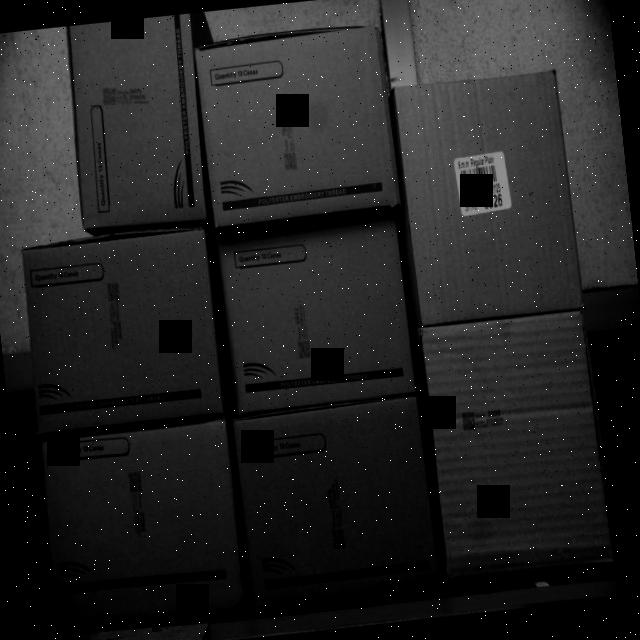box: (418, 312, 610, 581), (394, 65, 582, 328), (232, 392, 438, 609), (37, 423, 250, 628), (18, 225, 224, 436), (214, 208, 415, 409), (194, 28, 396, 226), (62, 12, 204, 228)
